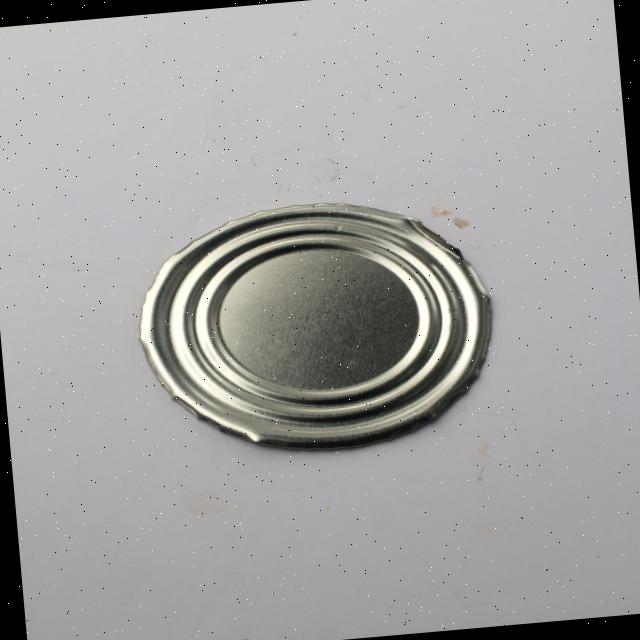metal: (128, 186, 504, 466)
